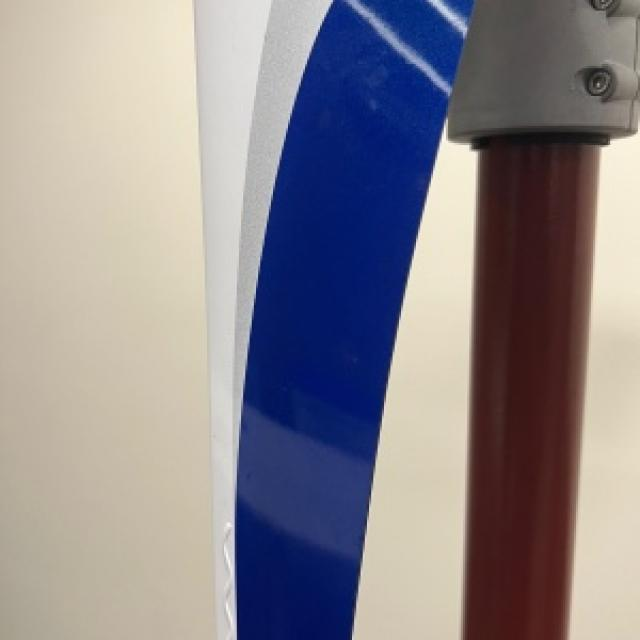healthy: (196, 0, 467, 638)
